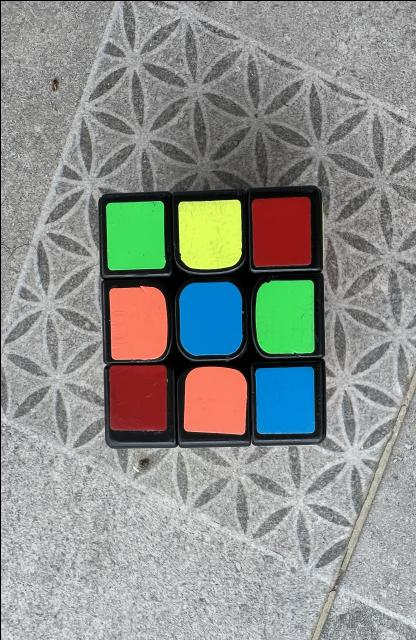Blue: (179, 281, 242, 355), (255, 365, 314, 432)
Green: (255, 279, 314, 352), (105, 200, 165, 269)
Orange: (108, 285, 167, 359), (183, 366, 246, 434)
Red: (250, 196, 310, 266), (108, 365, 166, 430)
Yellow: (178, 199, 242, 269)
